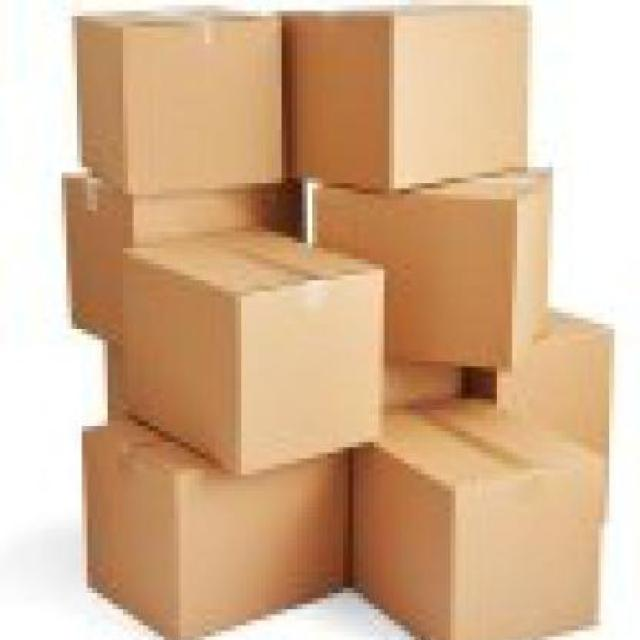box: (103, 219, 406, 486), (61, 403, 348, 640), (357, 390, 617, 640), (294, 144, 569, 379), (51, 166, 277, 411), (285, 5, 557, 204), (74, 17, 294, 207), (487, 316, 621, 575)
